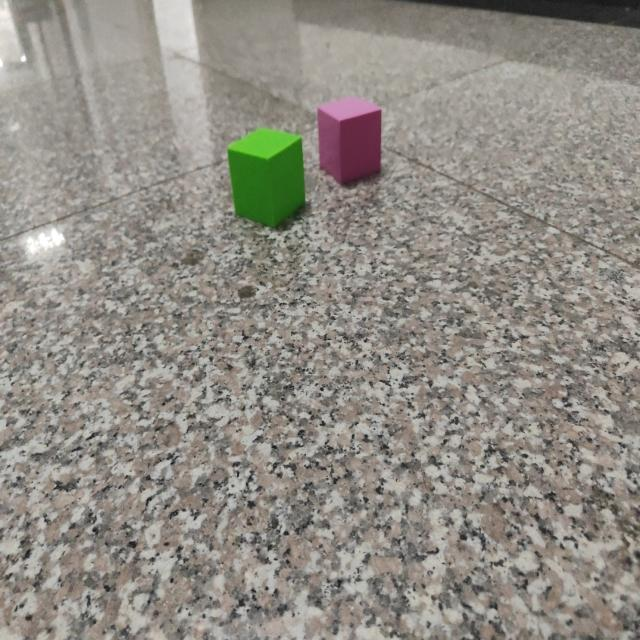green: (226, 129, 308, 232)
pink: (316, 97, 384, 188)
